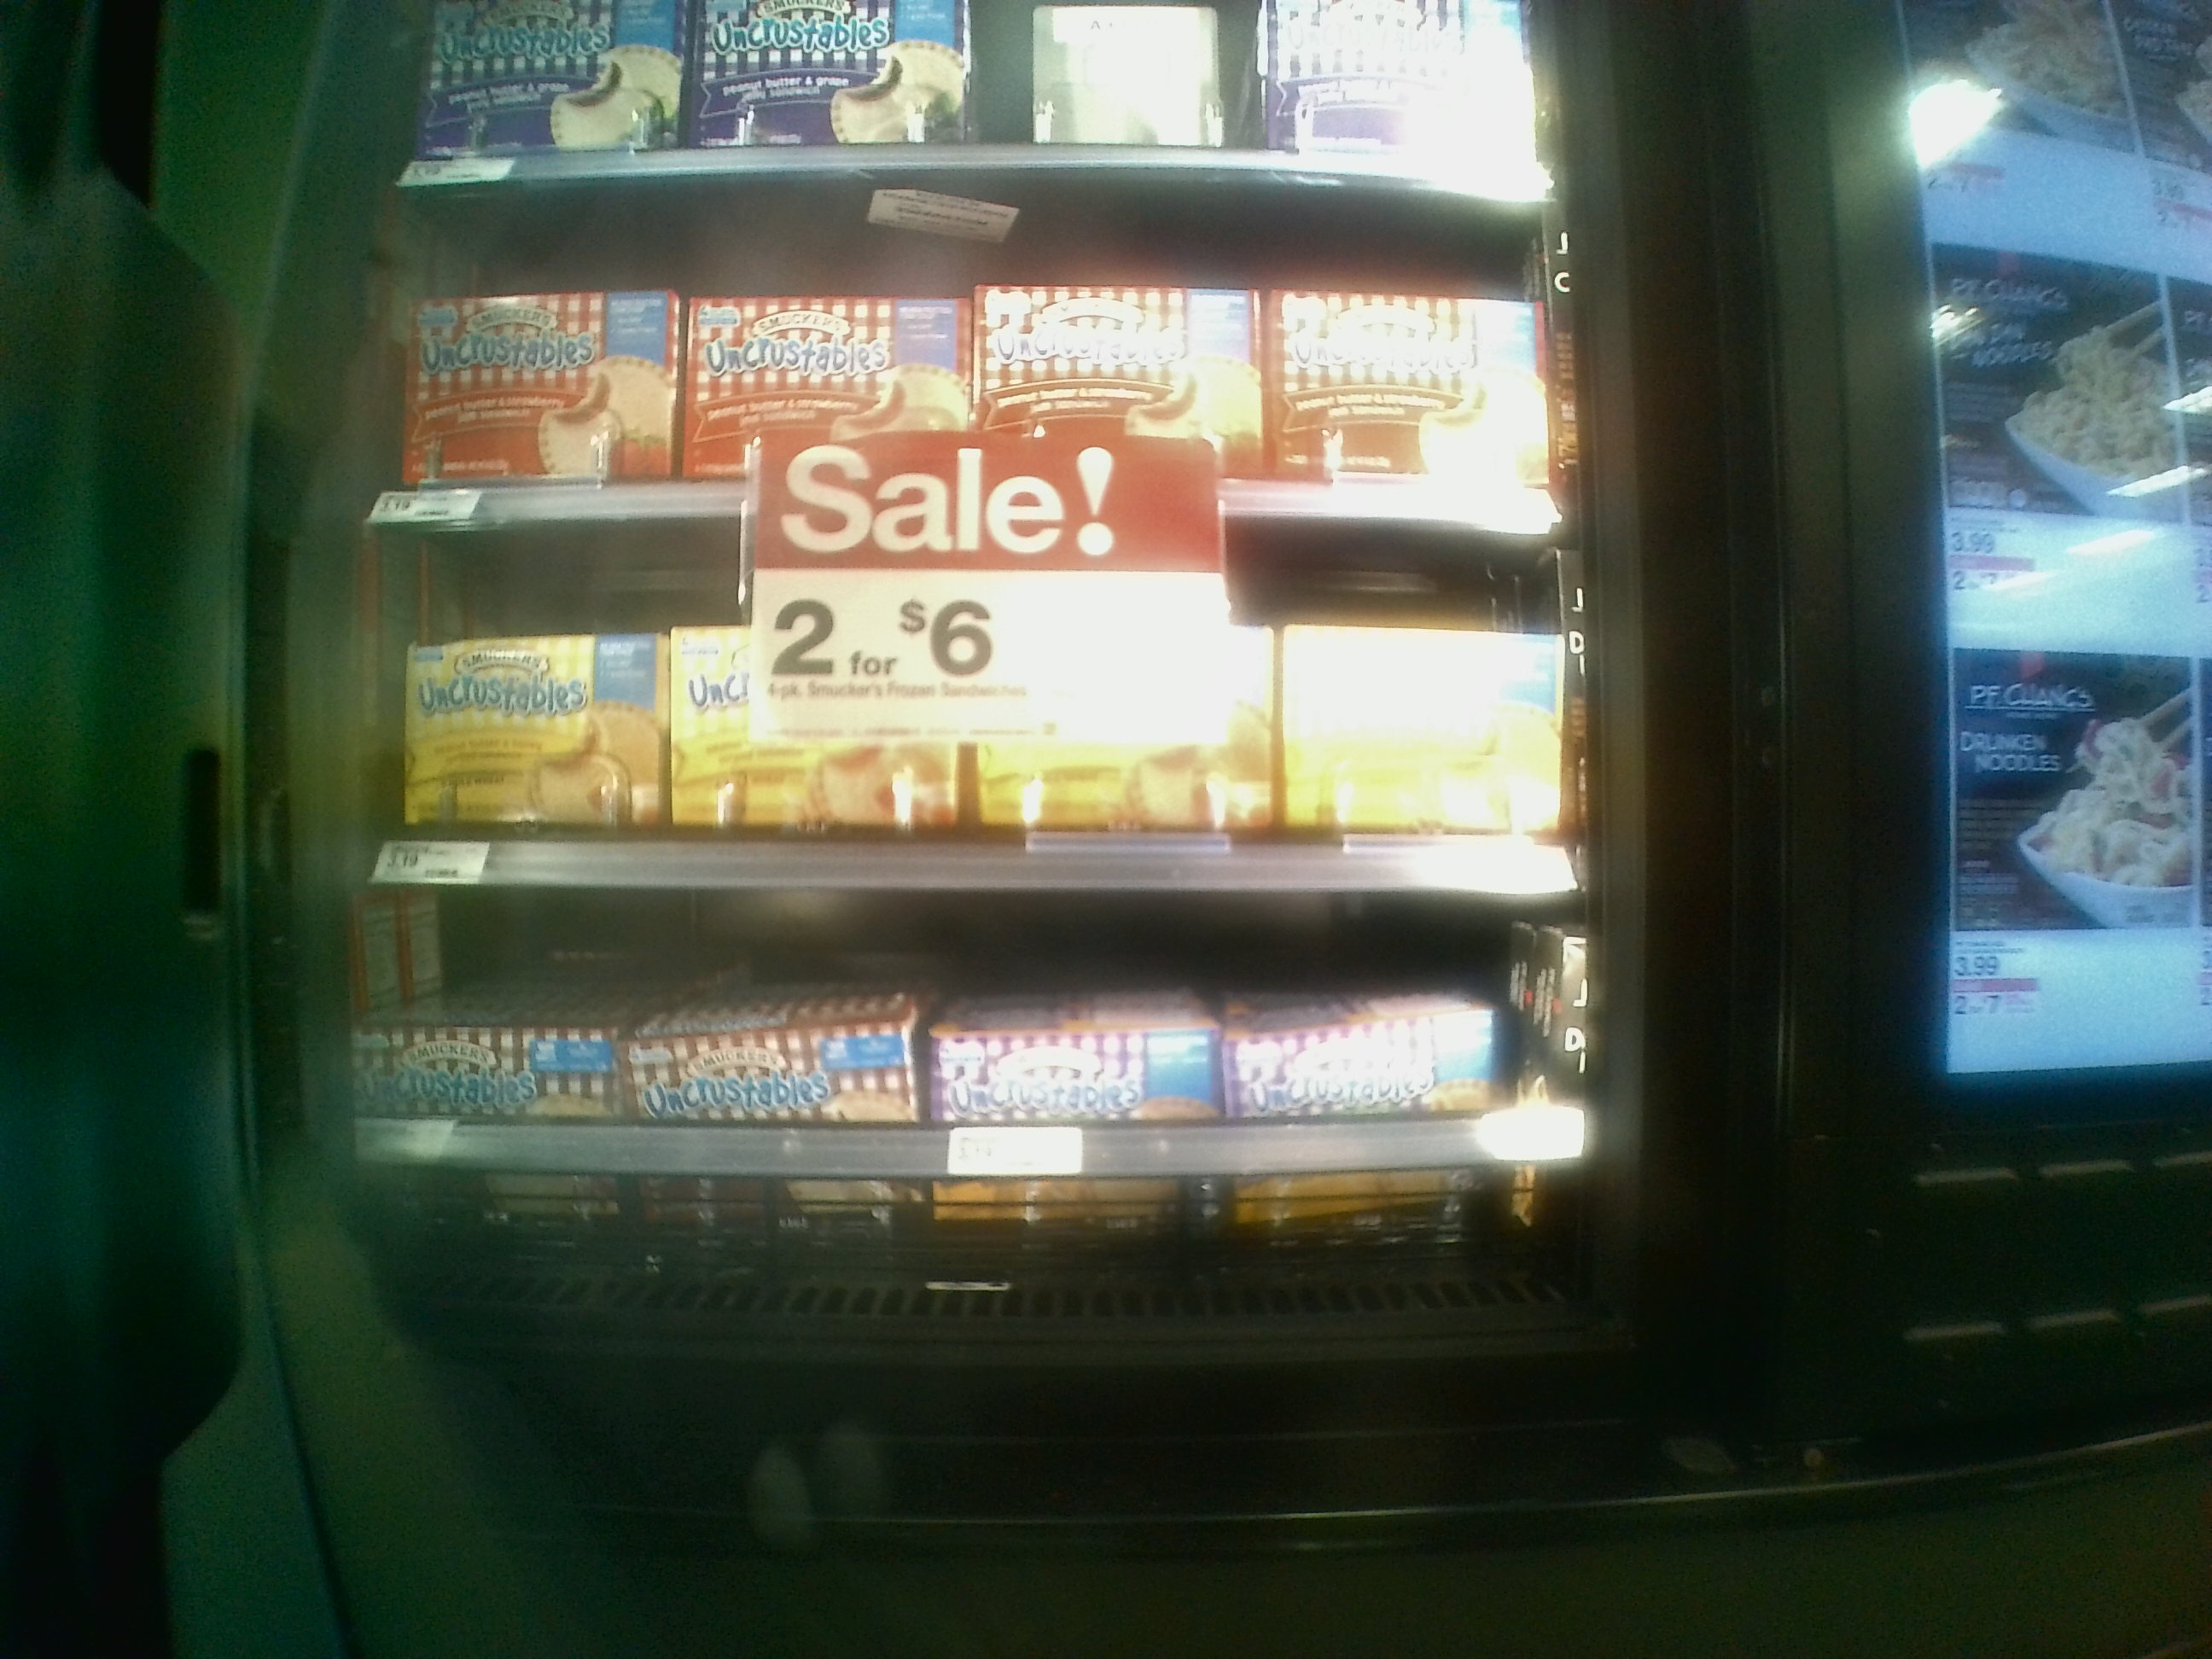shelf: (350, 894, 1613, 1270), (345, 525, 1581, 884), (369, 173, 1550, 523)
